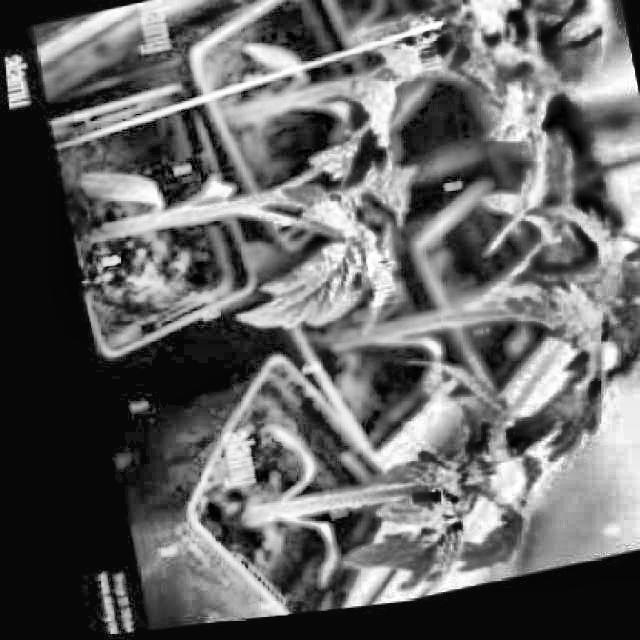plants: (117, 311, 537, 631), (49, 41, 437, 374), (293, 199, 609, 473), (188, 0, 507, 266), (411, 148, 638, 437), (381, 0, 634, 142)
